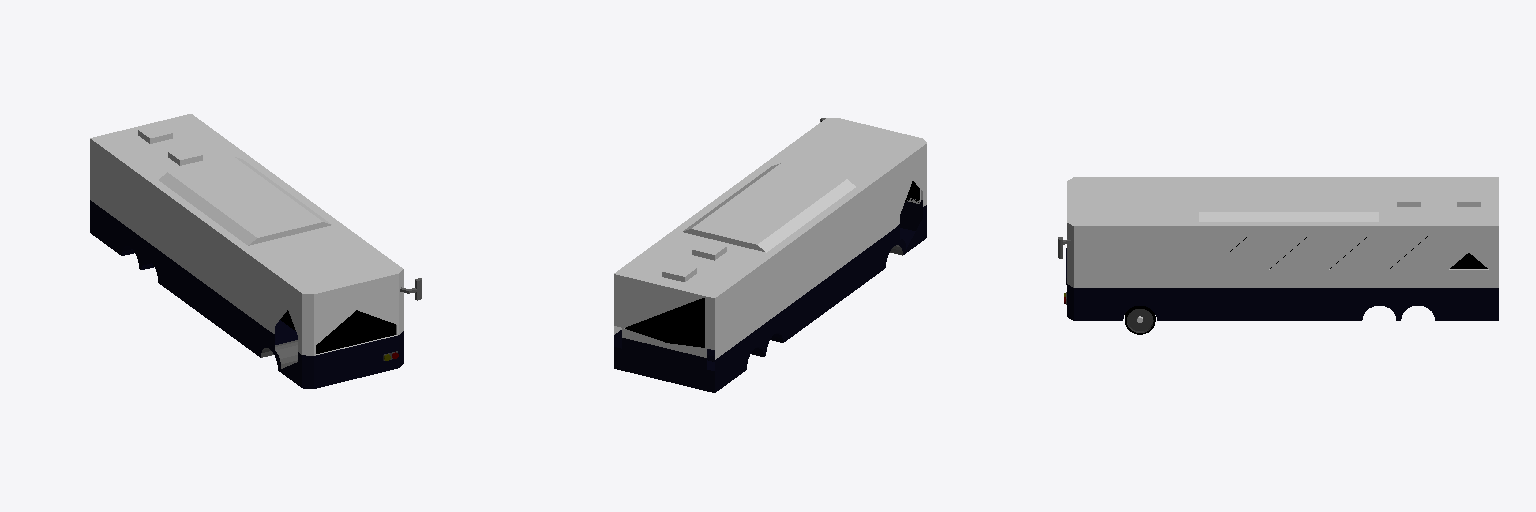
The model's file is busOBJ.obj.
3 views of the same model, side by side, from view 1: azimuth 30°, elevation 25°; view 2: azimuth 150°, elevation 25°; view 3: azimuth 270°, elevation 25° (orthographic).
Visible parts, largest first — view 1: buswhite, busblue, busblack, lambert1; view 2: buswhite, busblue, busblack; view 3: buswhite, busblue, MultiMat_2.
Part boxes in pixels (bbox=[...]): buswhite: bbox=[90, 114, 403, 355]; busblue: bbox=[90, 200, 403, 388]; busblack: bbox=[280, 310, 395, 353]; lambert1: bbox=[261, 340, 297, 368]; buswhite: bbox=[614, 118, 926, 359]; busblue: bbox=[614, 200, 926, 392]; busblack: bbox=[625, 181, 919, 347]; buswhite: bbox=[1067, 177, 1498, 287]; busblue: bbox=[1066, 248, 1498, 320]; MultiMat_2: bbox=[1125, 306, 1155, 334].
Size of the model in its own units: 19.7 by 18.97 by 66.98.